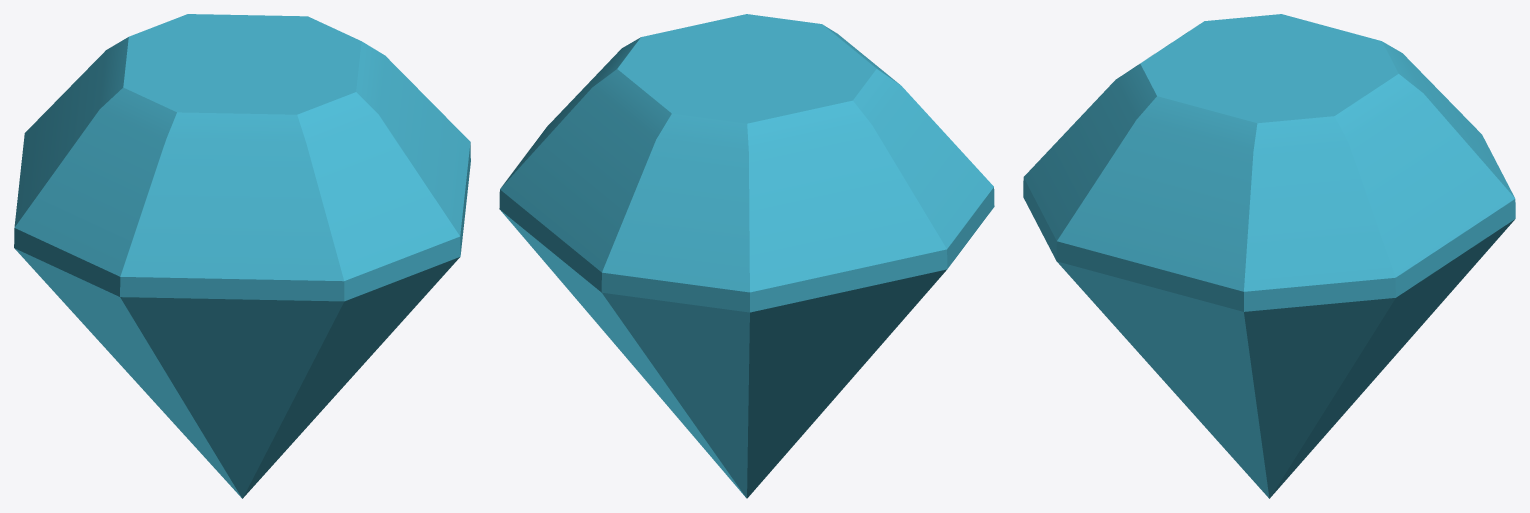
The model's file is Gem_Green.fbx.
The picture shows the model from 3 angles, left to right: view 1: azimuth 30°, elevation 25°; view 2: azimuth 150°, elevation 25°; view 3: azimuth 270°, elevation 25°; orthographic projection.
Visible parts, largest first — view 1: Gem_Green; view 2: Gem_Green; view 3: Gem_Green.
Boxes of the visible parts, left/top/right/bottom form: Gem_Green: left=14, top=14, right=470, bottom=498; Gem_Green: left=499, top=14, right=994, bottom=498; Gem_Green: left=1023, top=14, right=1515, bottom=498.
Size of the model in its own units: 112 by 108 by 112.
